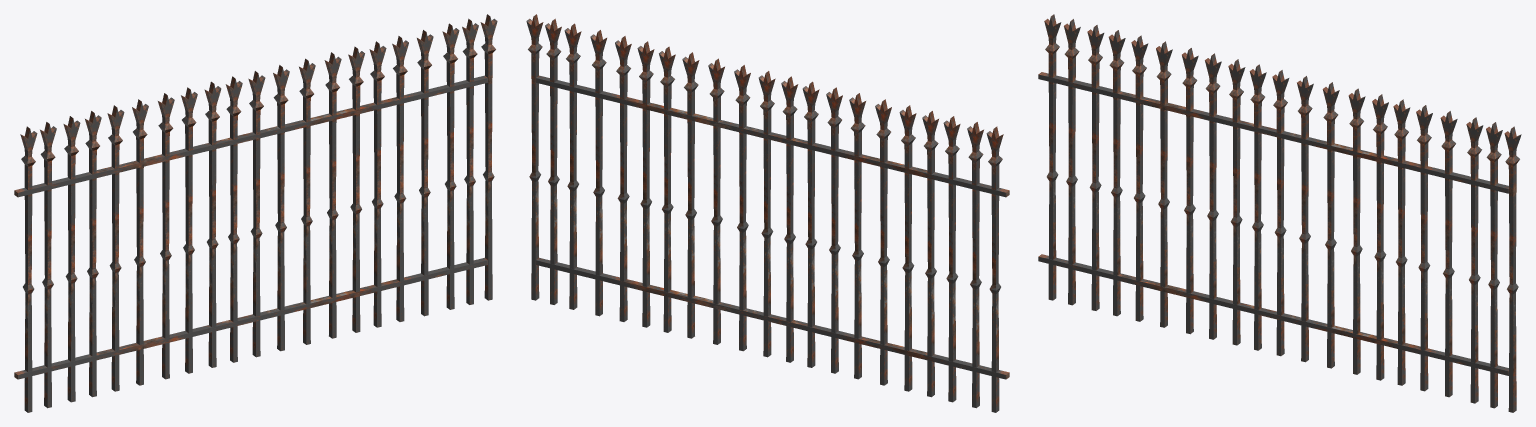
File: iron fenceTX.fbx
3 views of the same model, side by side, from view 1: azimuth 30°, elevation 25°; view 2: azimuth 150°, elevation 25°; view 3: azimuth 330°, elevation 25° (orthographic).
Visible parts, largest first — view 1: Cube.052; view 2: Cube.052; view 3: Cube.052.
Boxes of the visible parts, x1,y1,x2,y2 form: Cube.052: (14,14,497,412); Cube.052: (526,14,1009,412); Cube.052: (1038,14,1521,412).
Bounding box in the file's own units: 7435 × 4201 × 177.
Materials: 1 (1 with a texture image).
